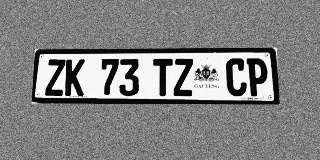3: (119, 59, 139, 96)
7: (99, 59, 119, 96)
C: (226, 58, 247, 96)
K: (65, 59, 85, 96)
P: (246, 58, 268, 96)
T: (153, 59, 173, 96)
Z: (45, 59, 66, 96), (173, 59, 193, 96)
